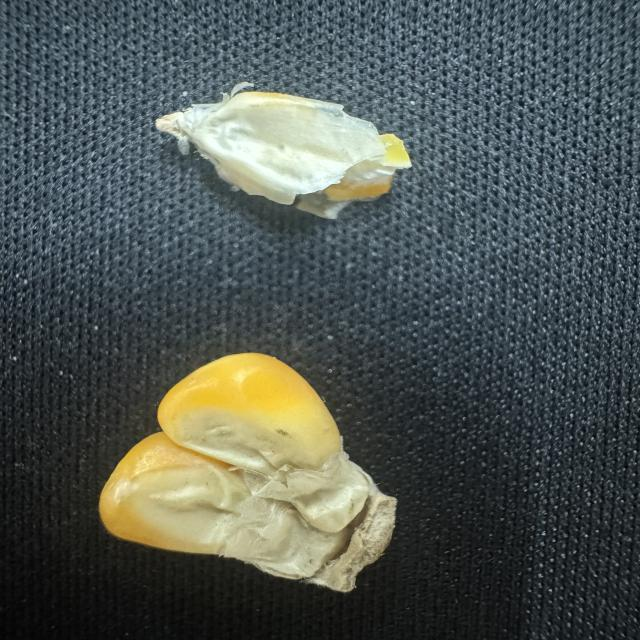Bad-Seed: (95, 347, 403, 597), (152, 77, 418, 224)
